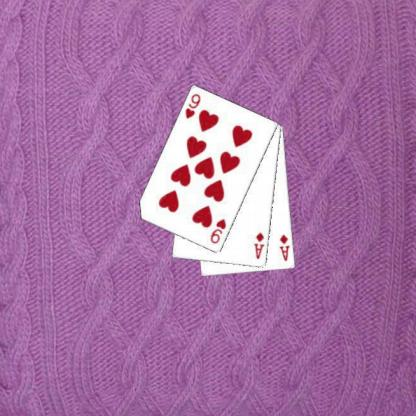9H: (207, 216, 228, 246), (183, 91, 202, 120)
AD: (251, 230, 266, 260), (277, 232, 291, 262)
